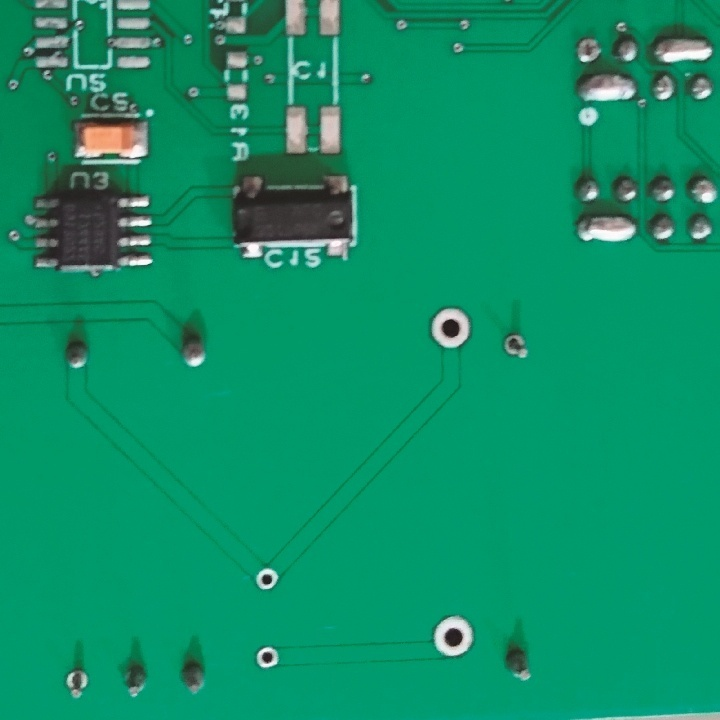F: (430, 612, 477, 660), (428, 303, 473, 351), (500, 328, 530, 361), (62, 668, 91, 702), (252, 644, 281, 672), (576, 35, 603, 63), (256, 569, 280, 591)
P: (573, 212, 640, 245), (650, 34, 715, 68), (575, 72, 637, 104)
